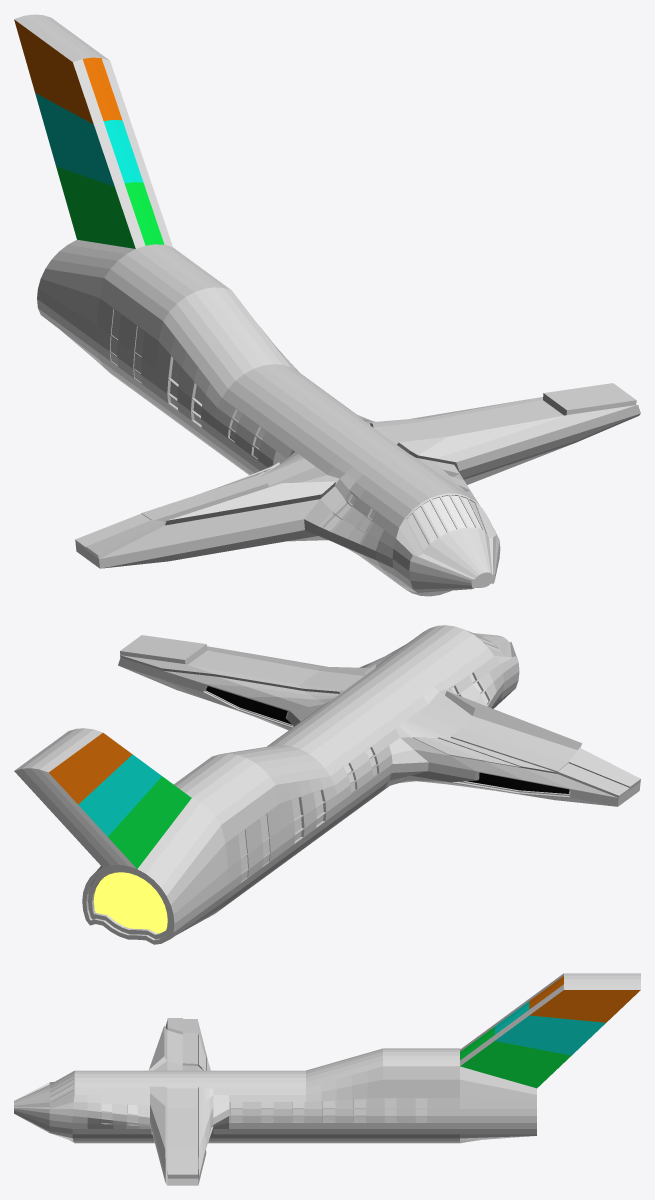
File: Concept Plane.fbx
3 views of the same model, one above another, from view 1: azimuth 30°, elevation 25°; view 2: azimuth 150°, elevation 25°; view 3: azimuth 270°, elevation 25° (orthographic). The views are drawn at different scales.
Visible parts, largest first — view 1: Cylinder; view 2: Cylinder; view 3: Cylinder.
Boxes of the visible parts, box(x1,y1,x2,y2) form: Cylinder: box(14, 14, 640, 596); Cylinder: box(14, 625, 640, 944); Cylinder: box(14, 973, 640, 1185).
Size of the model in its own units: 20.74 by 9.47 by 31.77.
